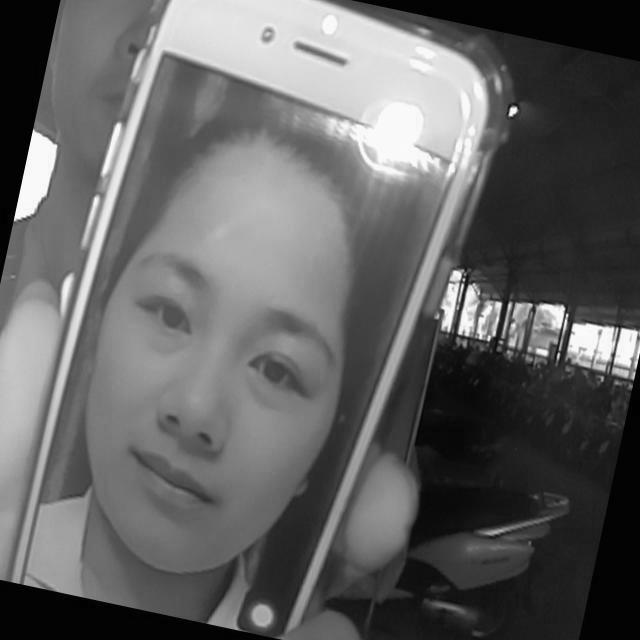fake: (1, 0, 525, 640)
